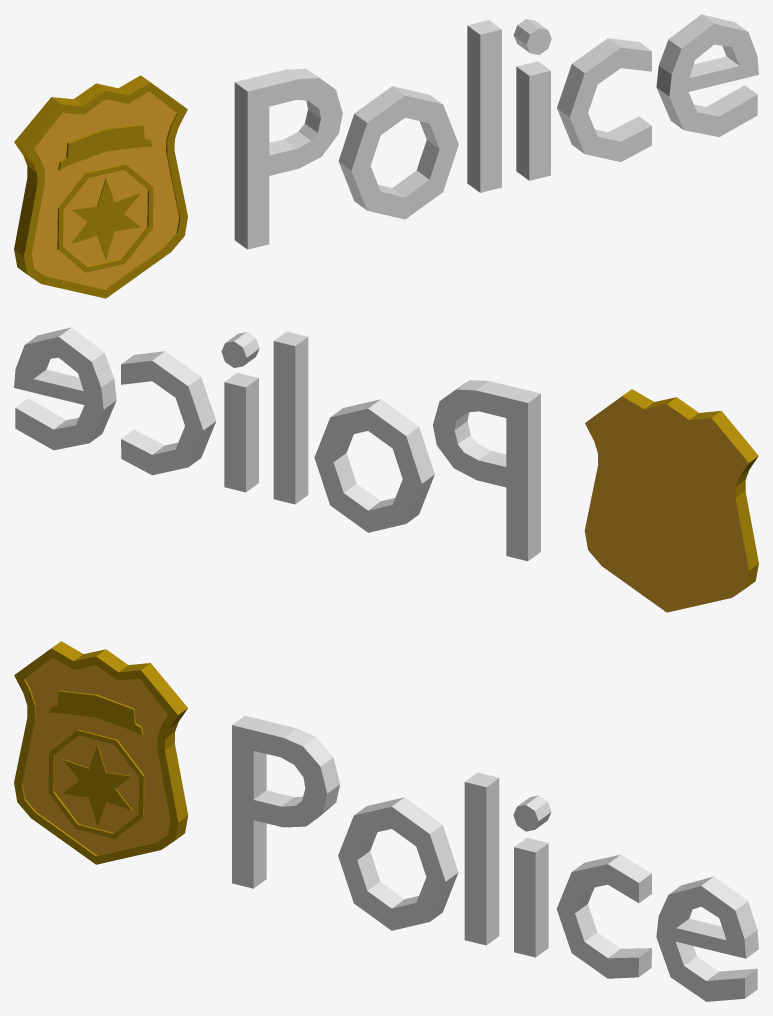
The model's file is P_Emblem.fbx.
The picture shows the model from 3 angles, top to bottom: view 1: azimuth 30°, elevation 25°; view 2: azimuth 150°, elevation 25°; view 3: azimuth 330°, elevation 25°; orthographic projection.
Parts seen in each view (by area): view 1: P_Emblem; view 2: P_Emblem; view 3: P_Emblem.
Boxes of the visible parts, x1=… form: P_Emblem: x1=14, y1=14, x2=758, y2=298; P_Emblem: x1=14, y1=327, x2=758, y2=612; P_Emblem: x1=14, y1=641, x2=758, y2=1001.
Bounding box in the file's own units: 1435 × 47.56 × 389.
